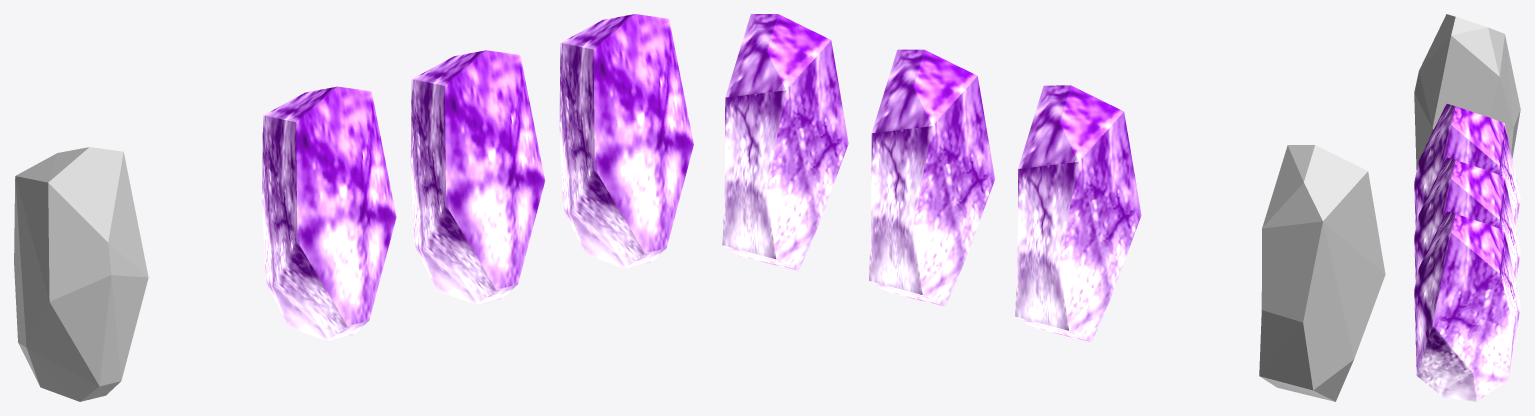
Rendered from hwccrystal_2_01.dae.
3 renders of one model, left to right at view 1: azimuth 30°, elevation 25°; view 2: azimuth 150°, elevation 25°; view 3: azimuth 270°, elevation 25°, orthographic. The views are drawn at different scales.
Visible parts, largest first — view 1: MULT[root_mesh]_LOD[2], MULT[root_mesh]_LOD[1], MULT[root_mesh]_LOD[0], COL[Root]; view 2: MULT[root_mesh]_LOD[1], MULT[root_mesh]_LOD[0], COL[Root], MULT[root_mesh]_LOD[2]; view 3: MULT[root_mesh]_LOD[2], COL[Root], MULT[root_mesh]_LOD[0], MULT[root_mesh]_LOD[1].
Part boxes in pixels (box(x1,y1,x2,y2)): MULT[root_mesh]_LOD[2]: box(559, 14, 693, 268); MULT[root_mesh]_LOD[1]: box(410, 50, 545, 305); MULT[root_mesh]_LOD[0]: box(262, 86, 396, 341); COL[Root]: box(14, 147, 148, 401); MULT[root_mesh]_LOD[1]: box(869, 49, 994, 306); MULT[root_mesh]_LOD[0]: box(1015, 85, 1141, 342); COL[Root]: box(1259, 145, 1385, 401); MULT[root_mesh]_LOD[2]: box(722, 14, 848, 270); MULT[root_mesh]_LOD[2]: box(1414, 211, 1520, 401); COL[Root]: box(1414, 14, 1520, 169); MULT[root_mesh]_LOD[0]: box(1414, 103, 1520, 228); MULT[root_mesh]_LOD[1]: box(1414, 157, 1520, 281).
Bounding box in the file's own units: 443 × 160 × 85.7.
Materials: 4 (4 with a texture image).
